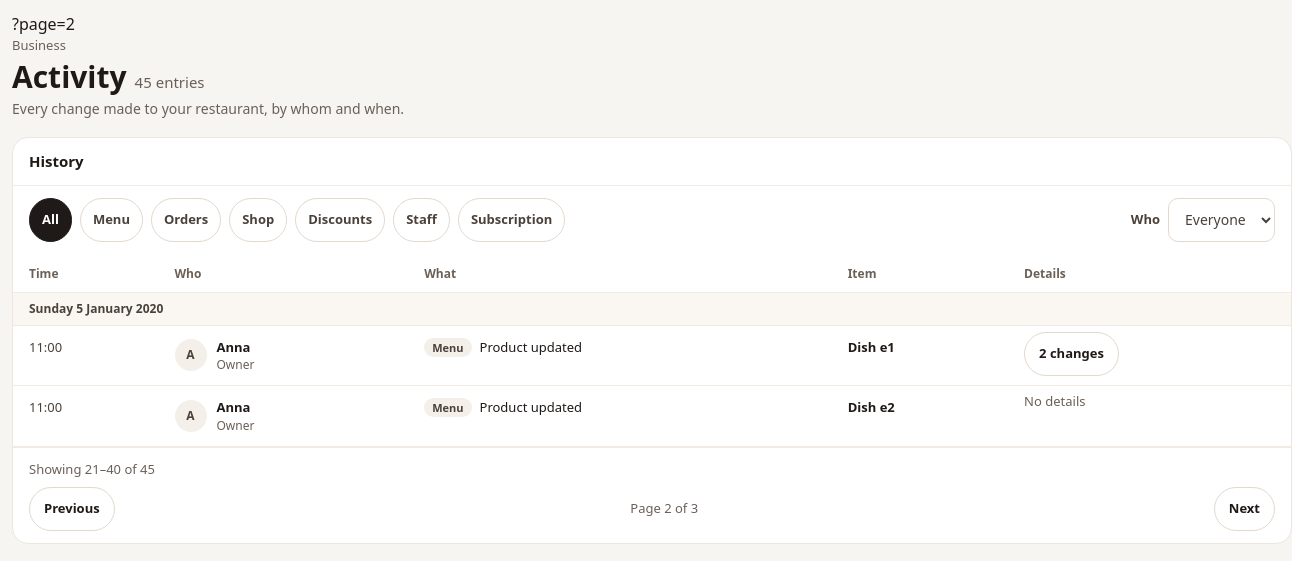
Scenario: ActivityPage › who select sends actor, resets page, and translates generic labels
The width and height of the screenshot is (1292, 561).
Later steps or results of the test are not shown.
Select "System" in the dropdown labelled "Who" at [1222, 220], box [1168,198,1275,242]
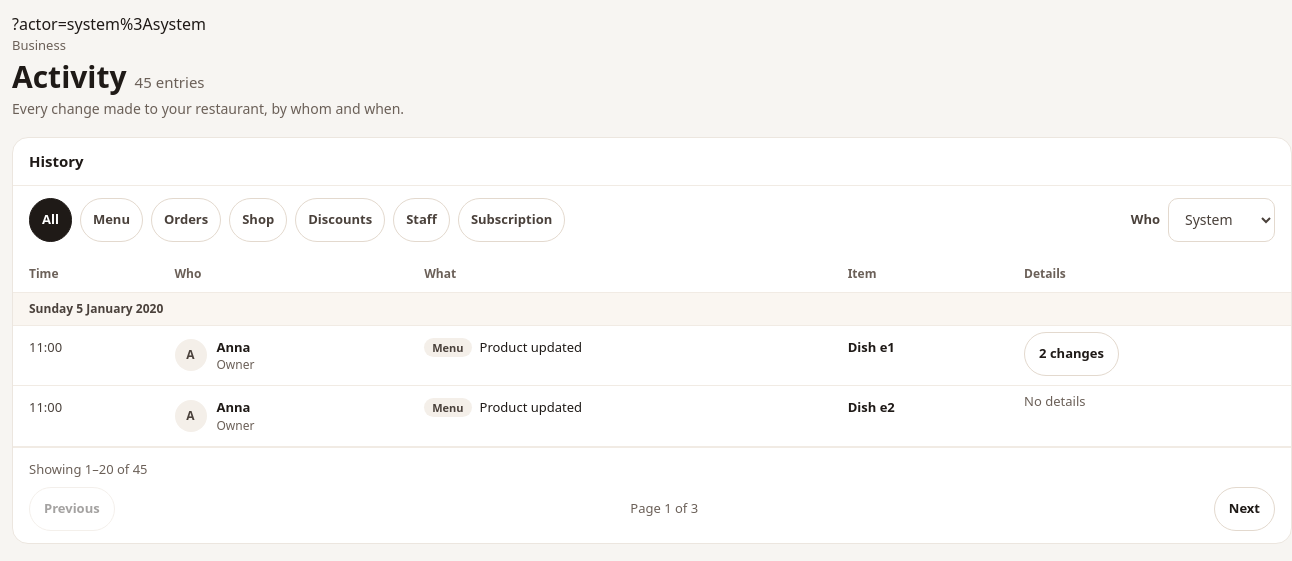
Result: the text with test id "loc" reads "?actor=system%3Asystem" at [12,13,206,35]
